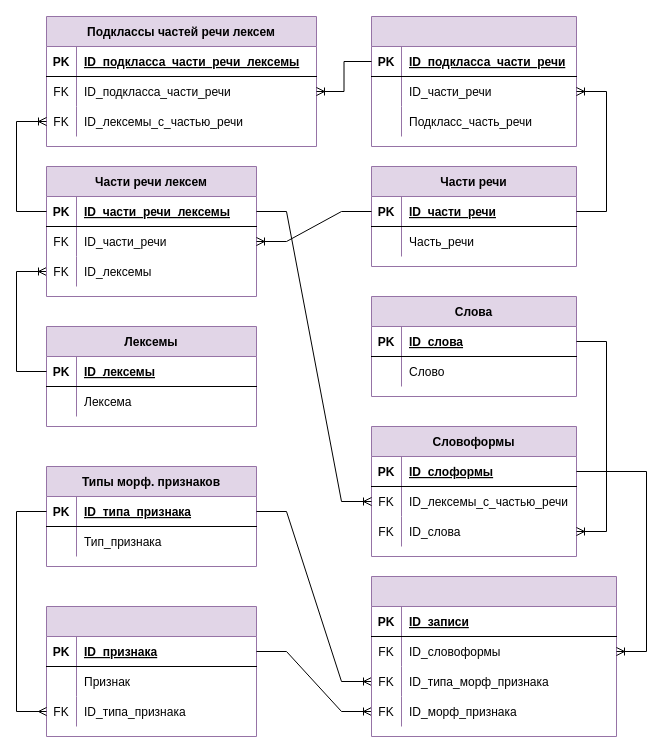
Some shapes in this 663 by 753 pixel diagram are drawn without their labels. The box of each missing label's shape, as (x1, y1, x2, y2) in pixels:
Морфологические признаки: (46, 606, 256, 736)
Наборы морф. признаков словоформ: (370, 576, 616, 736)
Подклассы частей речи: (370, 16, 576, 146)
